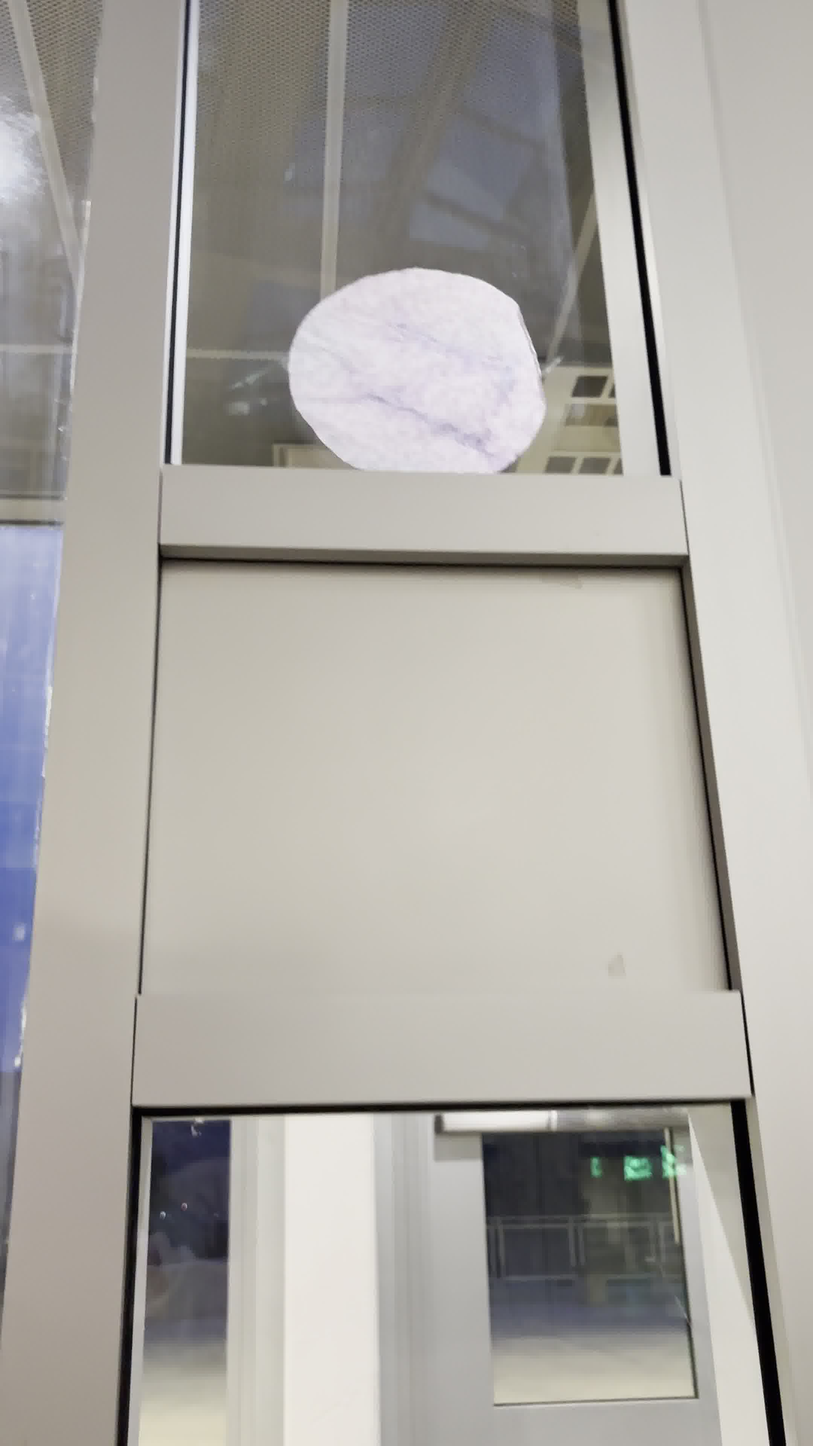Target: (279, 268, 550, 483)
